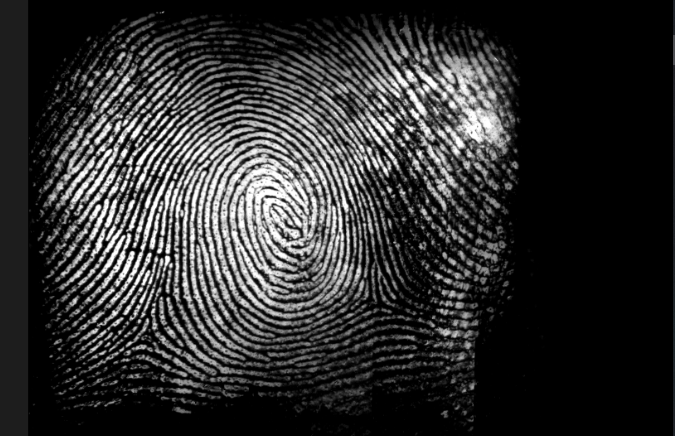deltas: (117, 290, 181, 355), (350, 271, 404, 323)
nucleo: (244, 182, 316, 250)
